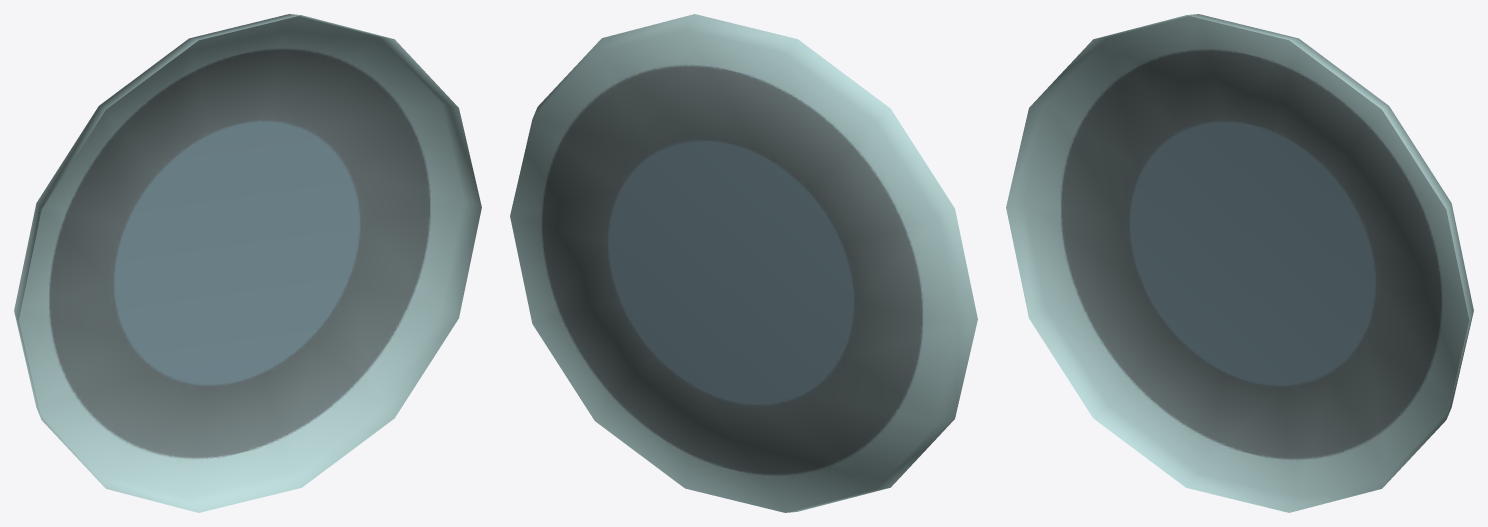
The model's file is Platform.fbx.
The picture shows the model from 3 angles, left to right: view 1: azimuth 30°, elevation 25°; view 2: azimuth 150°, elevation 25°; view 3: azimuth 330°, elevation 25°; orthographic projection.
Visible parts, largest first — view 1: Platform; view 2: Platform; view 3: Platform.
Part boxes in pixels (box(x1,y1,x2,y2)): Platform: box(14, 14, 481, 512); Platform: box(510, 14, 977, 512); Platform: box(1006, 14, 1473, 512).
Size of the model in its own units: 643 by 627 by 34.13.
